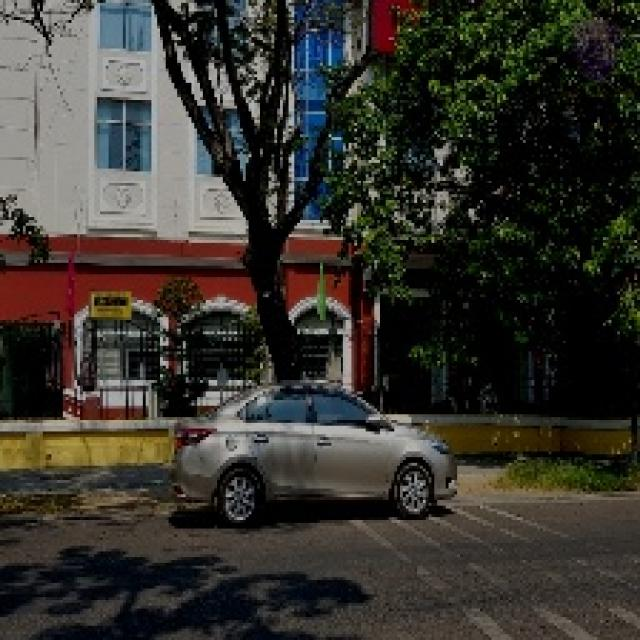car: (162, 357, 476, 529)
